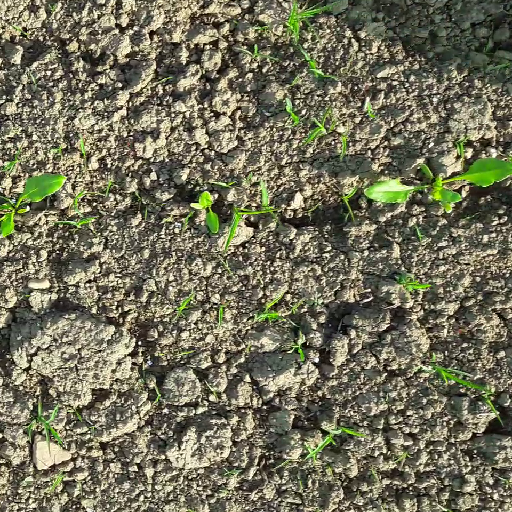sugarbeet: (363, 156, 510, 207), (1, 169, 67, 238), (187, 191, 221, 235)
weed: (427, 354, 504, 428), (226, 204, 283, 253), (23, 391, 64, 451), (284, 1, 347, 38), (299, 45, 339, 79), (303, 105, 332, 150), (250, 295, 298, 321), (234, 42, 282, 65), (260, 178, 282, 226), (338, 182, 360, 225), (43, 464, 66, 497), (325, 421, 364, 440), (392, 272, 432, 290), (172, 289, 198, 316), (301, 440, 331, 463), (58, 217, 100, 231), (284, 98, 301, 126), (69, 186, 85, 215), (3, 147, 24, 169), (79, 134, 92, 169), (288, 339, 304, 365), (451, 134, 469, 157), (363, 99, 378, 121), (336, 138, 348, 159), (222, 464, 241, 476), (414, 226, 423, 243), (105, 177, 112, 195)
